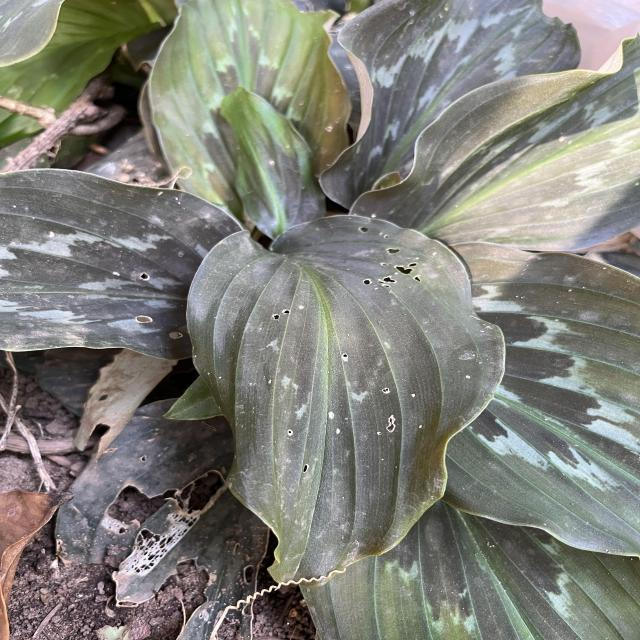Kaempferia galanga linn: (182, 212, 508, 596)
